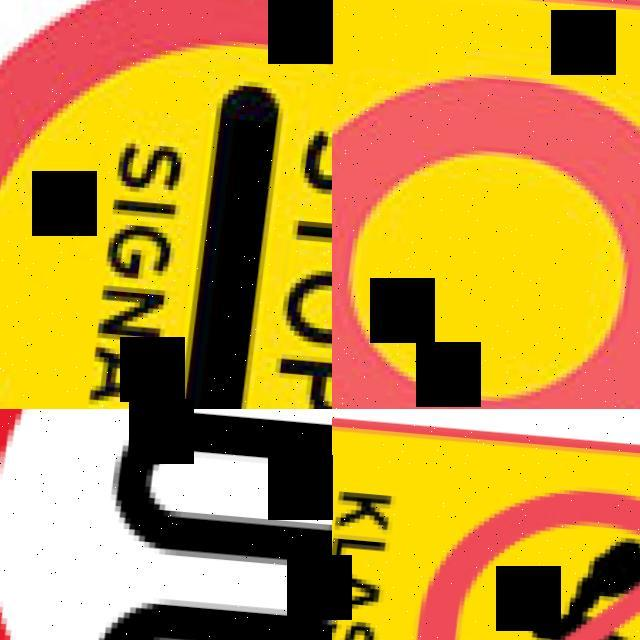116: (0, 0, 332, 409)
70: (332, 412, 640, 640)
82: (332, 0, 640, 409)
speed limit-100: (0, 409, 332, 640)
